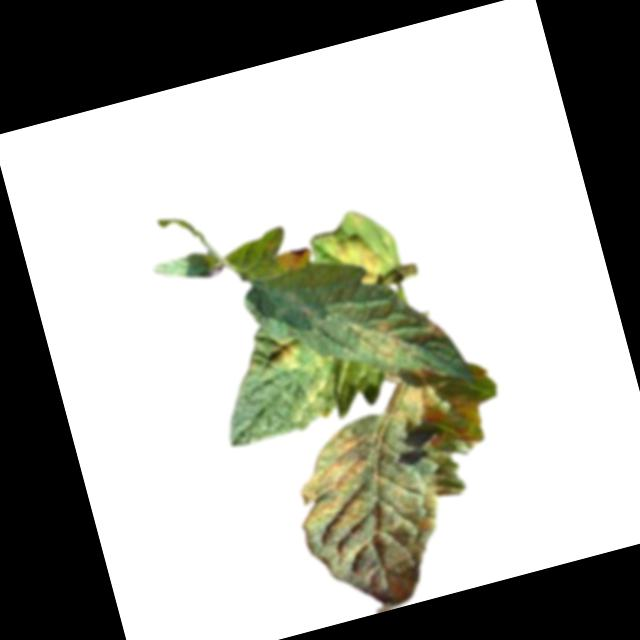Leaf_Mold: (276, 382, 527, 625), (351, 310, 412, 370), (330, 230, 389, 292), (297, 372, 340, 421), (268, 335, 305, 376), (276, 244, 315, 275), (419, 314, 449, 347)
